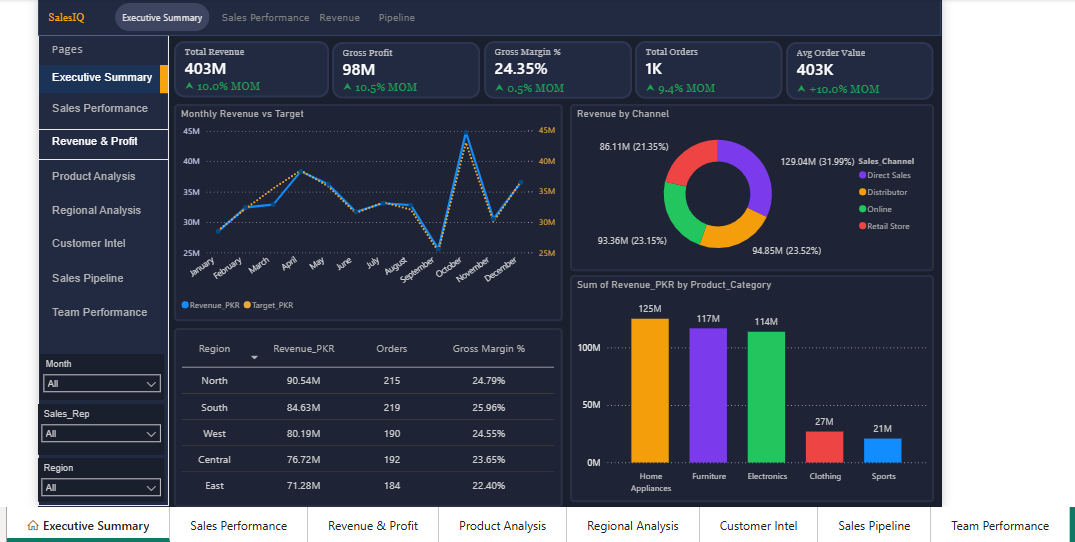

The dashboard page shown, as its layout file describes it:
{"tool":"powerbi","page":{"name":"Executive Summary","canvas":[1280,720],"ordinal":0},"visuals":[{"type":"shape","box":[0,0,1280,52],"z":0,"group":"g10"},{"type":"shape","box":[0,51.3,185,668],"z":0,"group":"g9"},{"type":"cardVisual","title":"Total Revenue ","fields":{"Data":["Table1.Total Revenue"]},"box":[193,59.5,220,80.8],"z":0},{"type":"actionButton","box":[0,93.3,185,40],"z":0,"group":"g1"},{"type":"actionButton","box":[0,137.3,185,40],"z":0,"group":"g2"},{"type":"actionButton","box":[0,184.1,185.7,43.9],"z":0,"group":"g3"},{"type":"actionButton","box":[0,234.3,185,40],"z":0,"group":"g4"},{"type":"actionButton","box":[0,282.3,185,40],"z":0,"group":"g5"},{"type":"actionButton","box":[0,329.8,185,40],"z":0,"group":"g6"},{"type":"actionButton","box":[0,378.1,185,40],"z":0,"group":"g8"},{"type":"actionButton","box":[0,426.4,185,40],"z":0,"group":"g7"},{"type":"actionButton","box":[109,6,134,40],"z":1000,"group":"g10"},{"type":"group","id":"g1","title":"Executive summary 1","box":[0,93.3,185,40],"z":1000,"group":"g9"},{"type":"shape","box":[173,93.3,12,40],"z":1000,"group":"g1"},{"type":"slicer","fields":{"Values":["Calendar.Month"]},"box":[1169.3,219.7,86.5,48.2],"z":1000},{"type":"actionButton","box":[255,6,135,40],"z":2000,"group":"g10"},{"type":"cardVisual","title":"Total Revenue ","fields":{"Data":["Table1.Total Profit"]},"box":[417,60.9,210,80.8],"z":2000},{"type":"group","id":"g2","title":"Executive summary 1","box":[0,137.3,185,40],"z":2000,"group":"g9"},{"type":"actionButton","box":[390,6,76,40],"z":3000,"group":"g10"},{"type":"cardVisual","title":"Total Revenue ","fields":{"Data":["Table1.Avg Order Value"]},"box":[1060.2,60.9,209.8,82.2],"z":3000},{"type":"group","id":"g3","title":"Executive summary 1","box":[0,184.1,185.7,54.2],"z":3000,"group":"g9"},{"type":"actionButton","box":[466,6,85,40],"z":4000,"group":"g10"},{"type":"cardVisual","title":"Total Revenue ","fields":{"Data":["Table1.Total Orders"]},"box":[846,60,209.8,82.2],"z":4000},{"type":"group","id":"g4","title":"Executive summary 1","box":[0,234.3,185,40],"z":4000,"group":"g9"},{"type":"cardVisual","title":"Total Revenue ","fields":{"Data":["Table1.Gross Margin %"]},"box":[632,59.5,210,82.2],"z":5000},{"type":"group","id":"g5","title":"Executive summary 1","box":[0,282.3,185,40],"z":5000,"group":"g9"},{"type":"lineChart","title":"Monthly Revenue vs Target","fields":{"Y":["Sum(Table1.Revenue_PKR)"],"Category":["Calendar.Year","Calendar.Month"],"Y2":["Sum(Table1.Target_PKR)"]},"box":[192.8,148.8,551.3,307.6],"z":6000},{"type":"group","id":"g6","title":"Executive summary 1","box":[0,329.8,185,40],"z":6000,"group":"g9"},{"type":"donutChart","title":"Revenue by Channel","fields":{"Y":["Sum(Table1.Revenue_PKR)"],"Category":["Table1.Sales_Channel"]},"box":[754,149,516,237],"z":7000},{"type":"group","id":"g7","title":"Executive summary 1","box":[0,426.4,185,40],"z":7000,"group":"g9"},{"type":"group","id":"g8","title":"Executive summary 1","box":[0,378.1,185,40],"z":8000,"group":"g9"},{"type":"columnChart","fields":{"Category":["Table1.Product_Category"],"Y":["Sum(Table1.Revenue_PKR)"]},"box":[754,391.2,515.9,321.7],"z":8000},{"type":"tableEx","fields":{"Values":["Table1.Region","Sum(Table1.Revenue_PKR)","Table1.Order_ID","Table1.Gross Margin %"]},"box":[192.8,466.3,551.3,253.7],"z":9000},{"type":"group","id":"g9","title":"1 side bar","box":[0,51.3,185.7,668],"z":10000},{"type":"group","id":"g10","title":"1 Header","box":[0,0,1280,52],"z":11000},{"type":"slicer","fields":{"Values":["Table1.Region"]},"box":[0,650.6,178.6,62.4],"z":12000},{"type":"slicer","fields":{"Values":["Table1.Sales_Rep"]},"box":[0,574,178.6,72.3],"z":13000},{"type":"slicer","fields":{"Values":["Calendar.Month"]},"box":[2.8,503.1,175.7,65.2],"z":14000}]}

Visuals, with their boxes on the page's 1280x720 design canvas (x1, y1, x2, y2). These are canvas units, not pixel positions in the 1075x542 screenshot, which may show the page scaled, cropped or inside an application window:
shape: [0,0,1280,52]
shape: [0,51,185,719]
"Total Revenue " cardVisual: [193,60,413,140]
actionButton: [0,93,185,133]
actionButton: [0,137,185,177]
actionButton: [0,184,186,228]
actionButton: [0,234,185,274]
actionButton: [0,282,185,322]
actionButton: [0,330,185,370]
actionButton: [0,378,185,418]
actionButton: [0,426,185,466]
actionButton: [109,6,243,46]
"Executive summary 1" group: [0,93,185,133]
shape: [173,93,185,133]
slicer - Calendar.Month: [1169,220,1256,268]
actionButton: [255,6,390,46]
"Total Revenue " cardVisual: [417,61,627,142]
"Executive summary 1" group: [0,137,185,177]
actionButton: [390,6,466,46]
"Total Revenue " cardVisual: [1060,61,1270,143]
"Executive summary 1" group: [0,184,186,238]
actionButton: [466,6,551,46]
"Total Revenue " cardVisual: [846,60,1056,142]
"Executive summary 1" group: [0,234,185,274]
"Total Revenue " cardVisual: [632,60,842,142]
"Executive summary 1" group: [0,282,185,322]
"Monthly Revenue vs Target" lineChart: [193,149,744,456]
"Executive summary 1" group: [0,330,185,370]
"Revenue by Channel" donutChart: [754,149,1270,386]
"Executive summary 1" group: [0,426,185,466]
"Executive summary 1" group: [0,378,185,418]
columnChart - Table1.Product_Category x Sum(Table1.Revenue_PKR): [754,391,1270,713]
tableEx - Table1.Region x Sum(Table1.Revenue_PKR): [193,466,744,720]
"1 side bar" group: [0,51,186,719]
"1 Header" group: [0,0,1280,52]
slicer - Table1.Region: [0,651,179,713]
slicer - Table1.Sales_Rep: [0,574,179,646]
slicer - Calendar.Month: [3,503,178,568]
